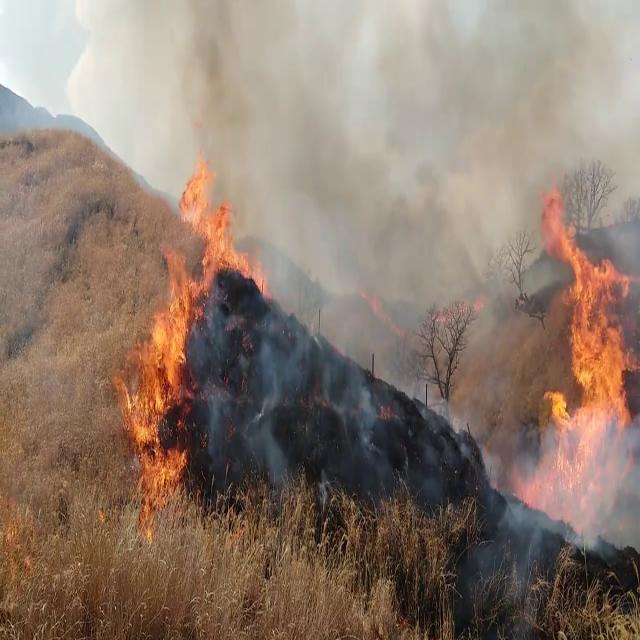Fire: (532, 184, 640, 492), (116, 250, 196, 522), (178, 144, 266, 311)
Smoke: (194, 0, 568, 477), (479, 392, 640, 608)
